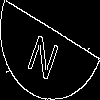N: (25, 25, 64, 82)
